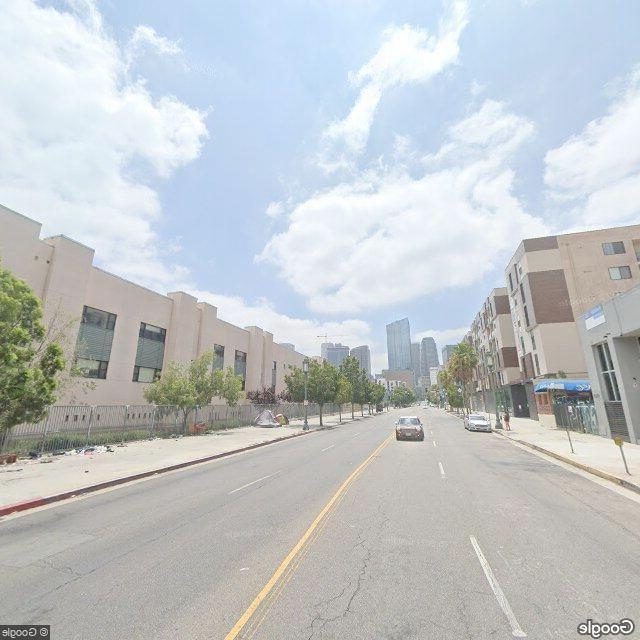crack: (293, 524, 385, 638)
